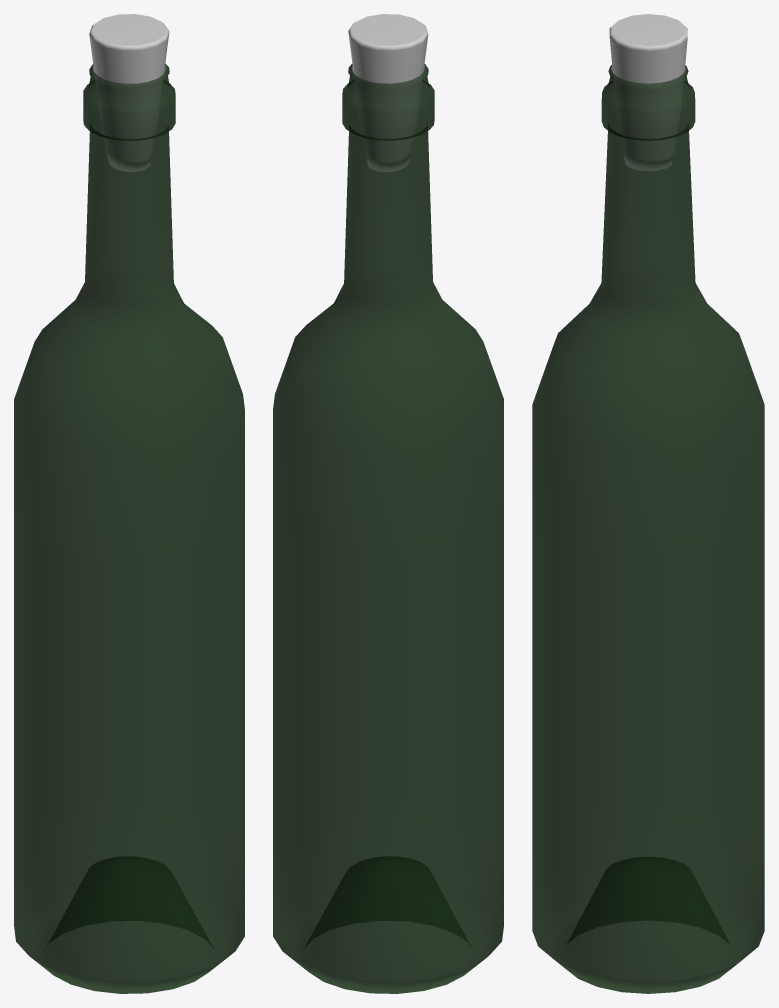
The model's file is empty_bottle.gltf.
3 renders of one model, left to right at view 1: azimuth 30°, elevation 25°; view 2: azimuth 150°, elevation 25°; view 3: azimuth 270°, elevation 25°, orthographic.
Parts seen in each view (by area): view 1: Object_4, Object_3; view 2: Object_4, Object_3; view 3: Object_4, Object_3.
Boxes of the visible parts, <box> form: Object_4: <box>14,63,244,993</box>; Object_3: <box>89,14,169,171</box>; Object_4: <box>273,64,503,993</box>; Object_3: <box>348,14,428,171</box>; Object_4: <box>532,65,764,993</box>; Object_3: <box>609,14,687,170</box>.
Bounding box in the file's own units: 0.7111 × 3.14 × 0.7111.
